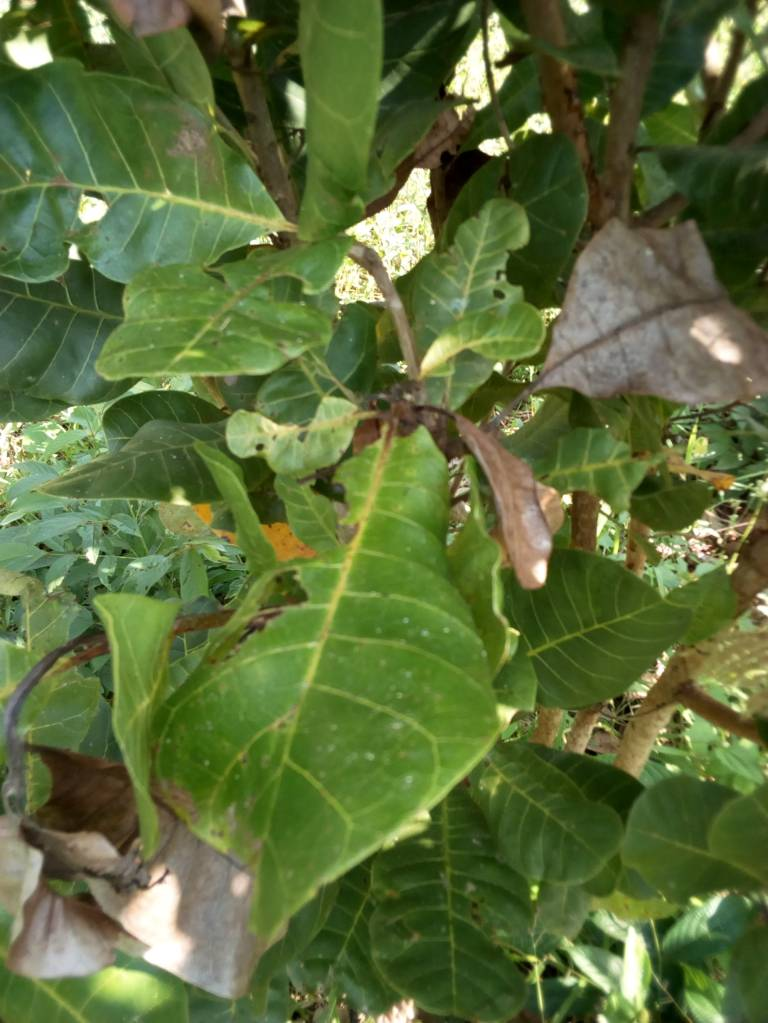Dessèchement des bourgeons: (1, 736, 201, 938)
